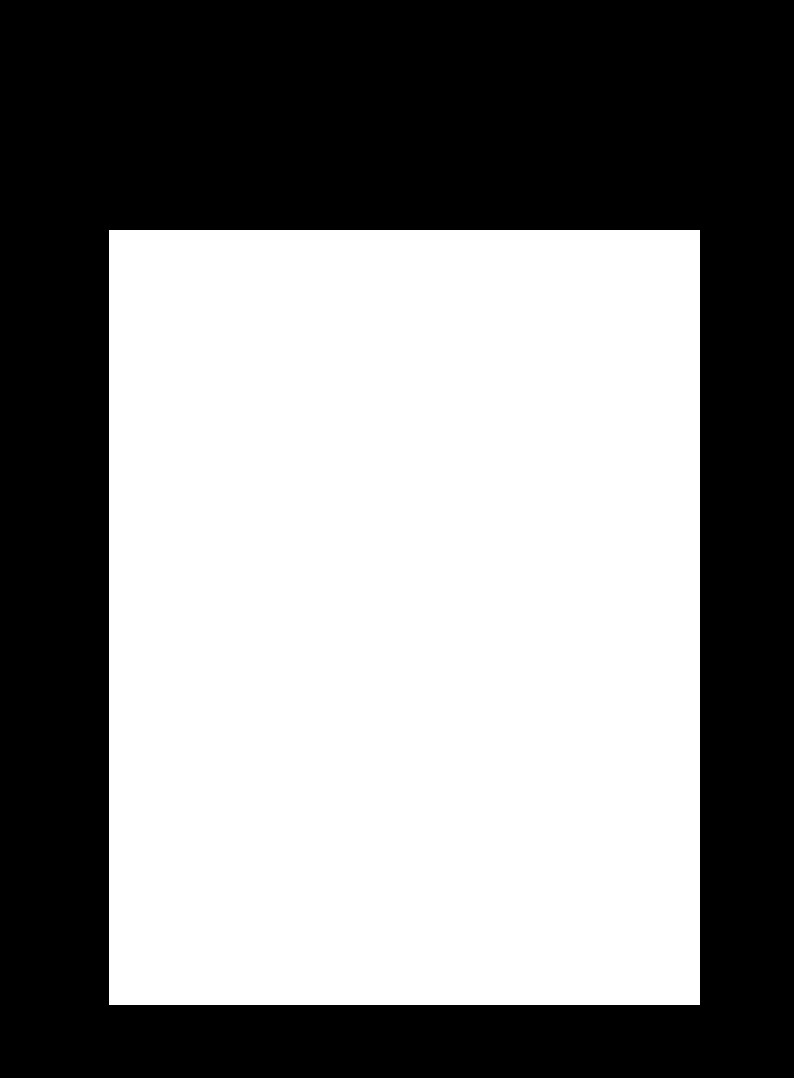table: (109, 230, 699, 1004)
